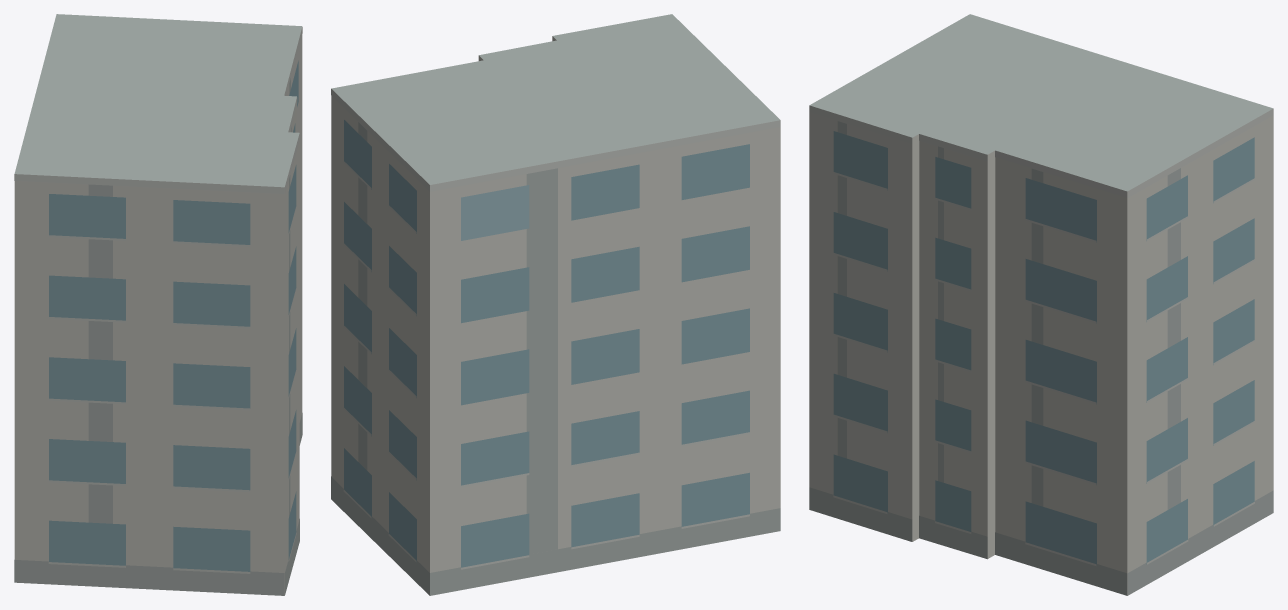
File: survey-upis-32763415.glb
3 renders of one model, left to right at view 1: azimuth 30°, elevation 25°; view 2: azimuth 150°, elevation 25°; view 3: azimuth 270°, elevation 25°, orthographic.
Visible parts, largest first — view 1: survey-upis-32763415.tmp; view 2: survey-upis-32763415.tmp; view 3: survey-upis-32763415.tmp.
Part boxes in pixels (x1,y1,x2,y2): survey-upis-32763415.tmp: [14, 14, 302, 595]; survey-upis-32763415.tmp: [331, 14, 780, 595]; survey-upis-32763415.tmp: [809, 14, 1273, 595].
Bounding box in the file's own units: 13.75 × 14.6 × 15.2.
